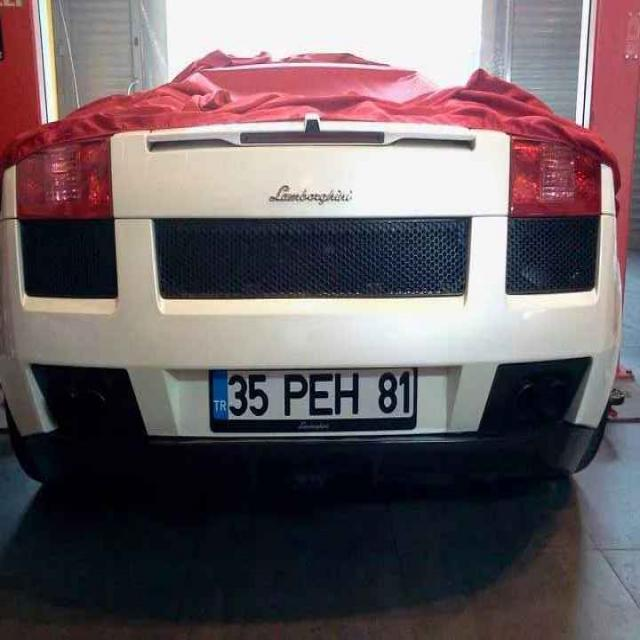plate: (208, 368, 419, 435)
